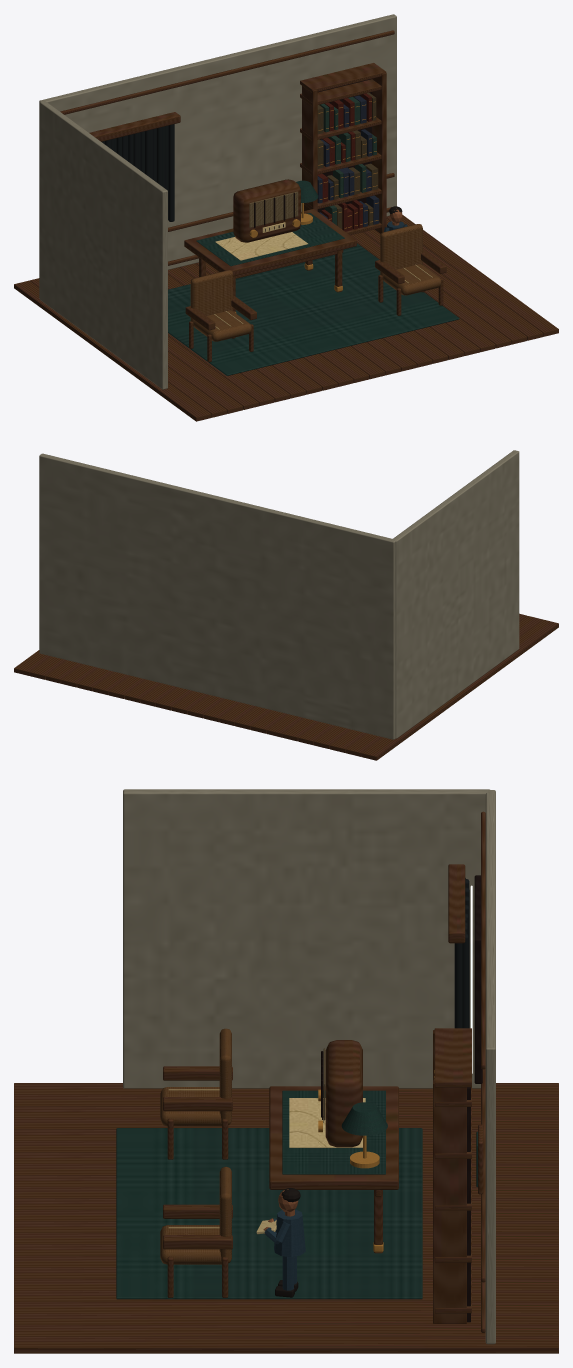
The model's file is room.glb.
3 renders of one model, top to bottom at view 1: azimuth 30°, elevation 25°; view 2: azimuth 150°, elevation 25°; view 3: azimuth 270°, elevation 25°, orthographic. The views are drawn at different scales.
Parts seen in each view (by area): view 1: Wallpaper back wall, Domestic floorboard, Rectangular woven carpet, Armchair cushion, Blackout curtain fold, Cloth-bound volume.002, Cloth-bound volume.001, Cloth-bound volume.004, Blank contour study, Cloth-bound volume, Radio cloth grille, Brass leg shoe (+1 smaller); view 2: Wallpaper back wall, Domestic floorboard; view 3: Wallpaper back wall, Domestic floorboard, Rectangular woven carpet, Armchair cushion, Window frame, Blank contour study, Figure trouser, Blackout curtain fold, Brass leg shoe.
Part boxes in pixels (<box>): Wallpaper back wall: <box>39,14,396,389</box>; Domestic floorboard: <box>14,30,558,421</box>; Rectangular woven carpet: <box>168,180,459,375</box>; Armchair cushion: <box>190,224,441,341</box>; Blackout curtain fold: <box>102,124,174,221</box>; Cloth-bound volume.002: <box>317,93,371,231</box>; Cloth-bound volume.001: <box>317,95,379,227</box>; Cloth-bound volume.004: <box>317,92,378,228</box>; Blank contour study: <box>214,222,432,329</box>; Cloth-bound volume: <box>319,97,376,225</box>; Radio cloth grille: <box>249,191,298,227</box>; Brass leg shoe: <box>235,101,378,313</box>; Wallpaper back wall: <box>39,450,519,739</box>; Domestic floorboard: <box>14,613,558,760</box>; Wallpaper back wall: <box>123,789,495,1344</box>; Domestic floorboard: <box>14,811,558,1353</box>; Rectangular woven carpet: <box>116,1090,477,1299</box>; Armchair cushion: <box>160,1028,231,1264</box>; Window frame: <box>321,875,482,1322</box>; Blank contour study: <box>168,1089,365,1228</box>; Figure trouser: <box>264,1209,305,1290</box>; Blackout curtain fold: <box>454,878,469,1028</box>; Brass leg shoe: <box>318,1070,434,1252</box>.
Size of the model in its own units: 9.19 by 4.9 by 8.
Materials: 17 (17 with a texture image).
